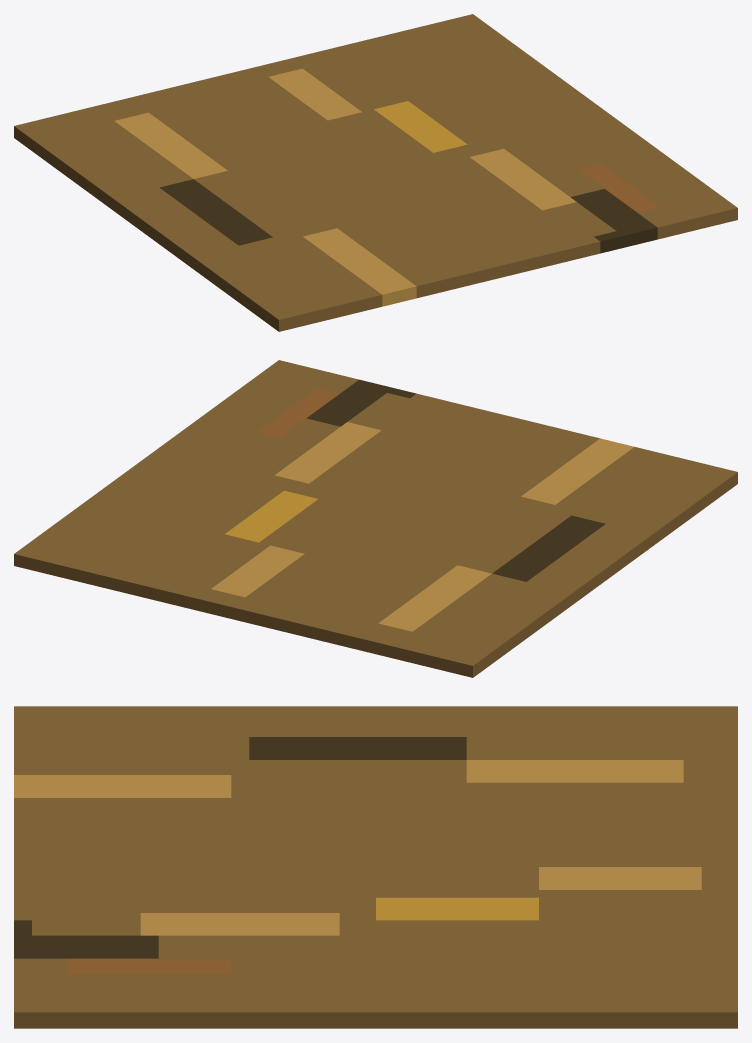
File: FloorTileBedRoom.obj
3 renders of one model, top to bottom at view 1: azimuth 30°, elevation 25°; view 2: azimuth 150°, elevation 25°; view 3: azimuth 270°, elevation 25°, orthographic. The views are drawn at different scales.
Bounding box in the file's own units: 4 × 0.1 × 4.
1 material, 1 textured.
